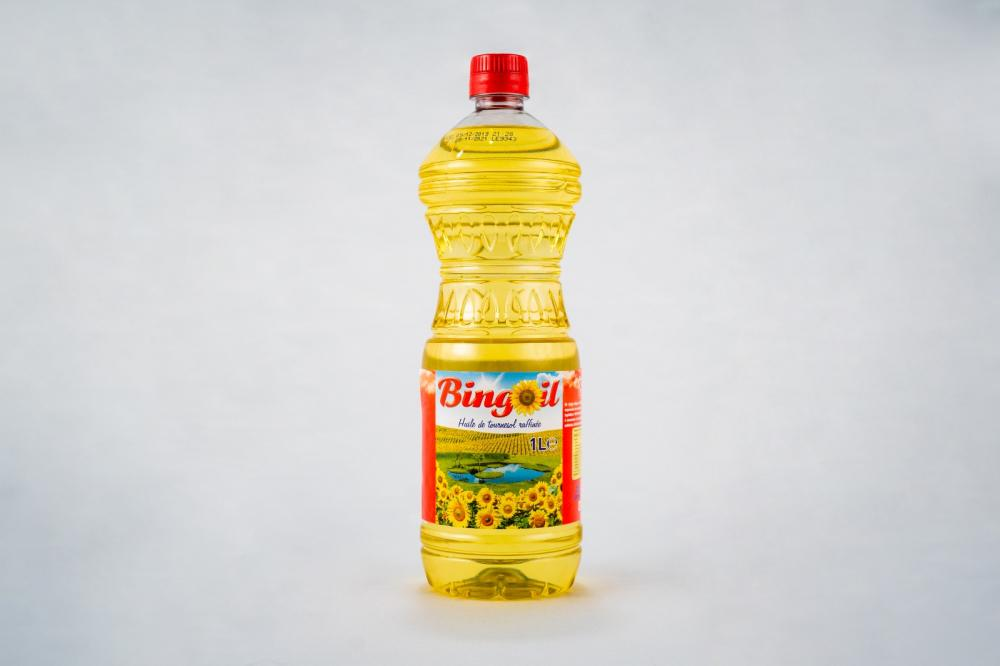plastic: (416, 54, 584, 604)
